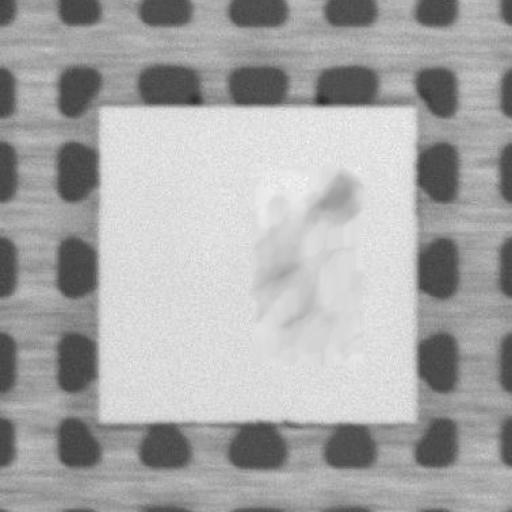DIE_INK: (245, 161, 366, 370)
